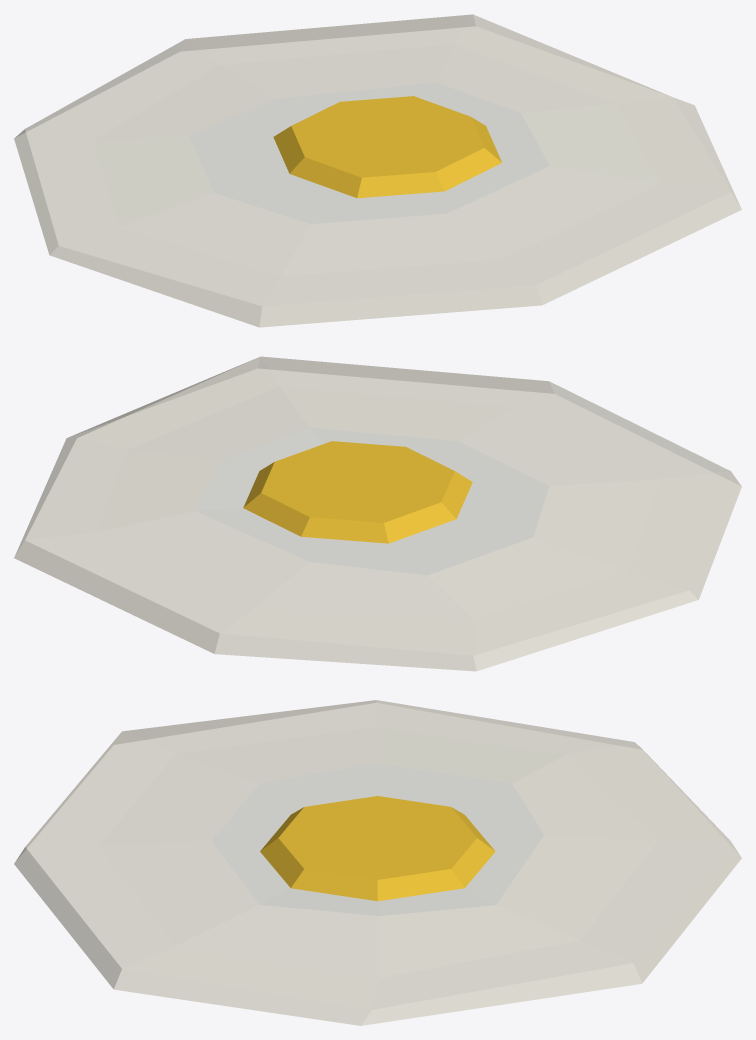
File: EggRaw.fbx
3 renders of one model, top to bottom at view 1: azimuth 30°, elevation 25°; view 2: azimuth 150°, elevation 25°; view 3: azimuth 270°, elevation 25°, orthographic. The views are drawn at different scales.
Visible parts, largest first — view 1: EggRaw; view 2: EggRaw; view 3: EggRaw.
Boxes of the visible parts, x1,y1,x2,y2 form: EggRaw: (14,14,741,327); EggRaw: (14,356,741,671); EggRaw: (14,700,741,1025).
Size of the model in its own units: 201 by 10.6 by 191.
